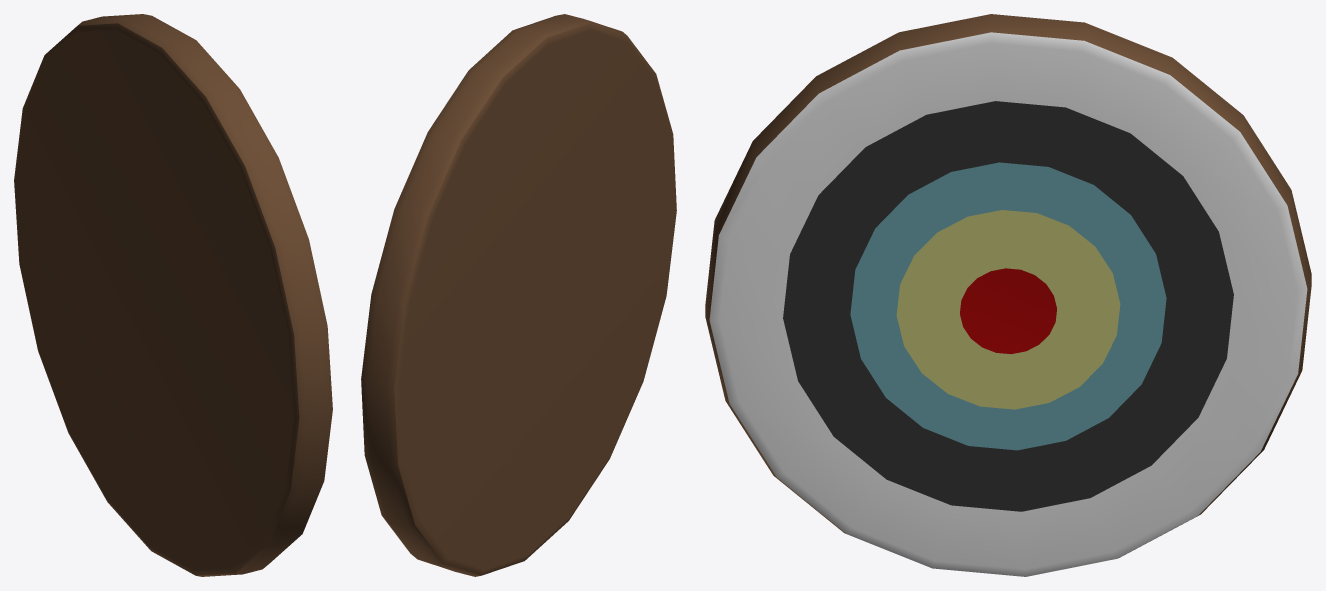
Rendered from cible.fbx.
3 views of the same model, side by side, from view 1: azimuth 30°, elevation 25°; view 2: azimuth 150°, elevation 25°; view 3: azimuth 270°, elevation 25° (orthographic). The views are drawn at different scales.
Parts seen in each view (by area): view 1: polySurface54; view 2: polySurface54; view 3: polySurface54.
Part boxes in pixels (<box>): polySurface54: <box>14,14,332,576</box>; polySurface54: <box>361,14,676,576</box>; polySurface54: <box>705,14,1311,576</box>.
Bounding box in the file's own units: 0.1027 × 1.05 × 1.05.
